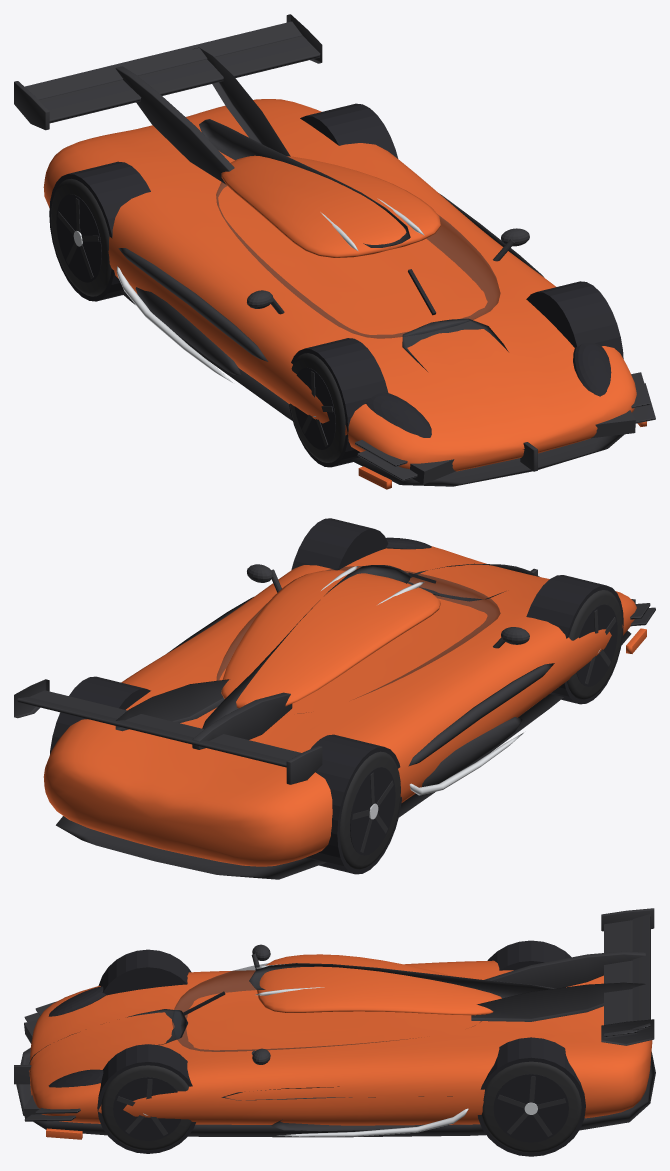
3 views of the same model, one above another, from view 1: azimuth 30°, elevation 25°; view 2: azimuth 150°, elevation 25°; view 3: azimuth 270°, elevation 25° (orthographic). The views are drawn at different scales.
Visible parts, largest first — view 1: Body_Main_Orange, Roof_Cap_Orange, Rear_Wing_Main_Plane, Rear_Wing_Upper_Flap, Carbon_Splitter_And_Skirts, Wheel_Front_Right_Wheel_Well_Liner, Wheel_Front_Left_Wheel_Well_Liner, Canopy_Glass_Dome, Rear_Wing_Swan_Strut_L, Wheel_Rear_Left_Wheel_Well_Liner, Wheel_Rear_Right_Wheel_Well_Liner, Wheel_Rear_Left_Rim_Barrel (+14 smaller); view 2: Body_Main_Orange, Roof_Cap_Orange, Carbon_Splitter_And_Skirts, Wheel_Rear_Left_Wheel_Well_Liner, Wheel_Front_Right_Wheel_Well_Liner, Wheel_Front_Left_Wheel_Well_Liner, Canopy_Glass_Dome, Rear_Wing_Main_Plane, Rear_Wing_Swan_Strut_R, Wheel_Rear_Left_Rim_Barrel, Wheel_Rear_Left_Tire, Rear_Wing_Swan_Strut_L (+11 smaller); view 3: Body_Main_Orange, Roof_Cap_Orange, Carbon_Splitter_And_Skirts, Rear_Wing_Swan_Strut_R, Wheel_Rear_Right_Rim_Barrel, Wheel_Rear_Right_Tire, Wheel_Front_Left_Wheel_Well_Liner, Wheel_Rear_Right_Wheel_Well_Liner, Rear_Wing_Swan_Strut_L, Rear_Wing_Main_Plane, Wheel_Front_Right_Wheel_Well_Liner, Wheel_Front_Right_Tire (+12 smaller).
Part boxes in pixels (box(x1,y1,x2,y2)): Body_Main_Orange: box(43, 99, 636, 471); Roof_Cap_Orange: box(221, 155, 440, 257); Rear_Wing_Main_Plane: box(39, 35, 320, 123); Rear_Wing_Upper_Flap: box(25, 21, 302, 99); Carbon_Splitter_And_Skirts: box(120, 291, 624, 486); Wheel_Front_Right_Wheel_Well_Liner: box(526, 281, 623, 358); Wheel_Front_Left_Wheel_Well_Liner: box(289, 338, 388, 467); Canopy_Glass_Dome: box(216, 180, 500, 338); Rear_Wing_Swan_Strut_L: box(115, 66, 234, 184); Wheel_Rear_Left_Wheel_Well_Liner: box(49, 161, 150, 301); Wheel_Rear_Right_Wheel_Well_Liner: box(300, 103, 398, 158); Wheel_Rear_Left_Rim_Barrel: box(56, 194, 101, 282); Body_Main_Orange: box(43, 546, 636, 866); Roof_Cap_Orange: box(221, 570, 440, 708); Carbon_Splitter_And_Skirts: box(56, 630, 631, 879); Wheel_Rear_Left_Wheel_Well_Liner: box(305, 734, 401, 874); Wheel_Front_Right_Wheel_Well_Liner: box(291, 518, 388, 570); Wheel_Front_Left_Wheel_Well_Liner: box(526, 575, 623, 704); Canopy_Glass_Dome: box(216, 566, 500, 713); Rear_Wing_Main_Plane: box(29, 690, 301, 760); Rear_Wing_Swan_Strut_R: box(115, 679, 229, 731); Wheel_Rear_Left_Rim_Barrel: box(350, 767, 395, 855); Wheel_Rear_Left_Tire: box(340, 751, 400, 869); Rear_Wing_Swan_Strut_L: box(192, 692, 292, 749); Body_Main_Orange: box(29, 960, 652, 1125); Roof_Cap_Orange: box(257, 954, 501, 1015); Carbon_Splitter_And_Skirts: box(16, 1048, 655, 1137); Rear_Wing_Swan_Strut_R: box(471, 982, 645, 1021); Wheel_Rear_Right_Rim_Barrel: box(493, 1074, 568, 1142); Wheel_Rear_Right_Tire: box(481, 1061, 581, 1152); Wheel_Front_Left_Wheel_Well_Liner: box(98, 949, 191, 995); Wheel_Rear_Right_Wheel_Well_Liner: box(477, 1037, 585, 1156); Rear_Wing_Swan_Strut_L: box(484, 951, 645, 988); Rear_Wing_Main_Plane: box(604, 920, 637, 1038); Wheel_Front_Right_Wheel_Well_Liner: box(97, 1044, 195, 1153); Wheel_Front_Right_Tire: box(101, 1065, 192, 1150).
Size of the model in its own units: 0.4492 by 0.2298 by 1.
